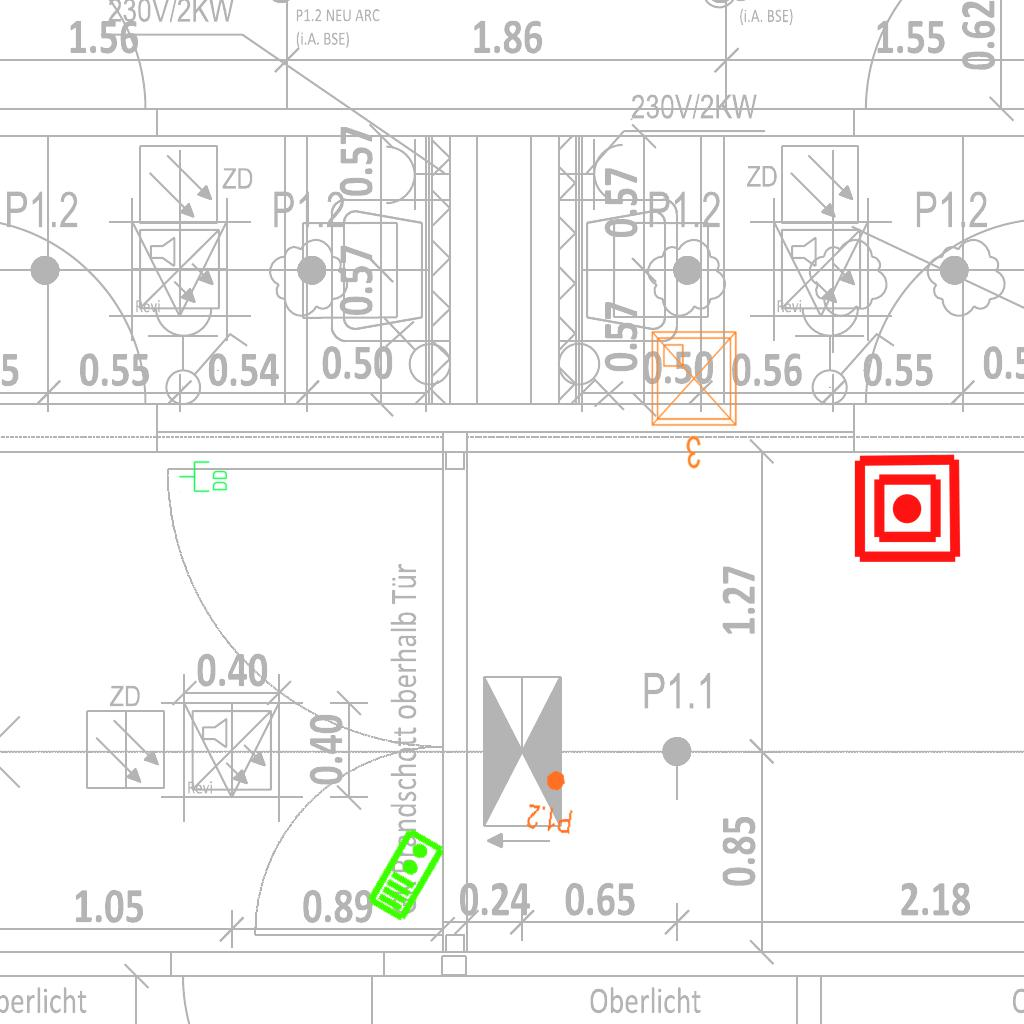Datenanschluss_zweifach: (178, 460, 229, 494)
Downlight_LED_Einbauleuchten_Flur: (524, 766, 580, 836)
Einbaudownlights_LED_Konferenzraeume: (644, 324, 748, 474)
Gegensprechanlage_mit_Video: (363, 824, 448, 924)
NAM-Nichtautomatischer_Melder: (851, 452, 964, 565)
